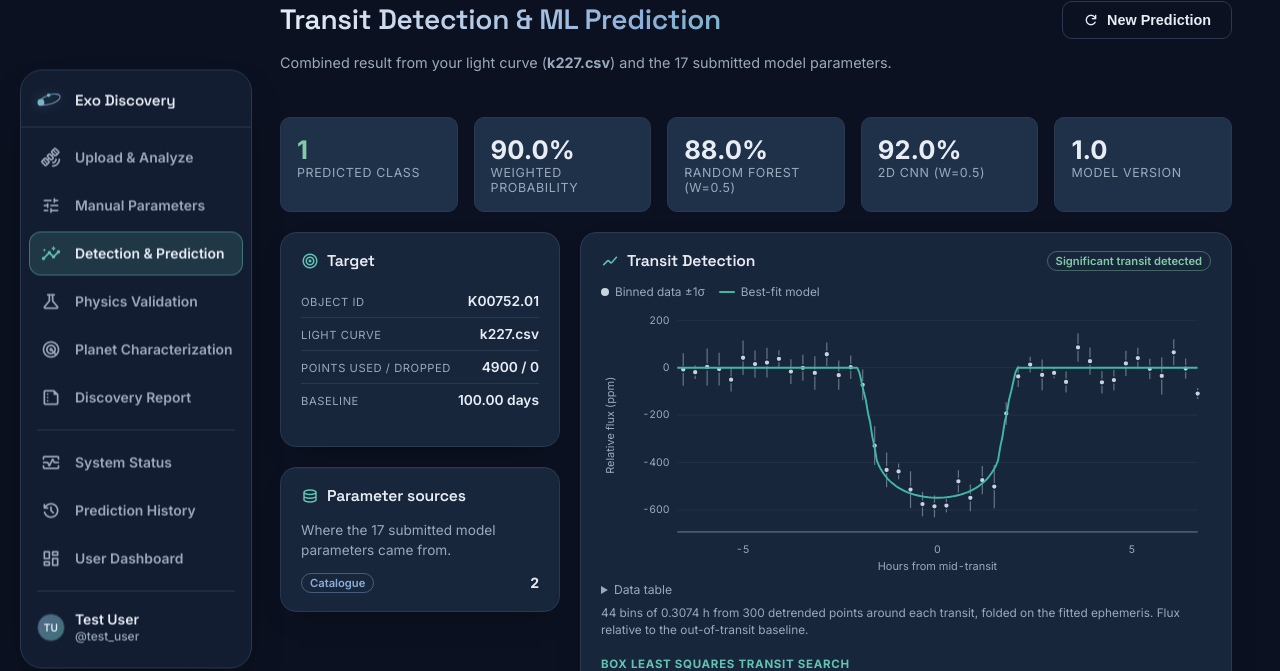
Test: Planet characterization dashboard › dashboard has a section sidebar, a summary strip and backend-computed values
Click the link "Planet Characterization" at (137, 350), box [41,338,233,362]
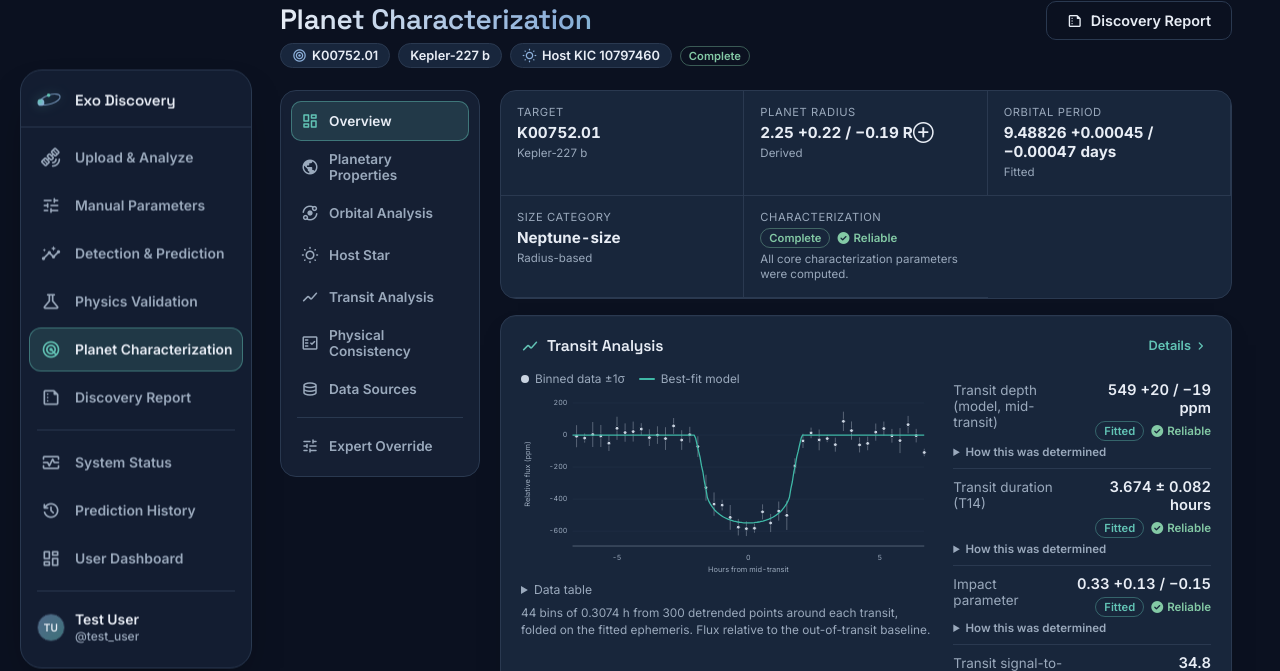
Check: the button "Overview" is shown, box [291,101,469,141]
Check: the button "Planetary Properties" is shown, box [291,143,469,191]
Check: the button "Orbital Analysis" is shown, box [291,193,469,233]
Click the button "Host Star" at (380, 255), box [291,235,469,275]
(page scrolled)
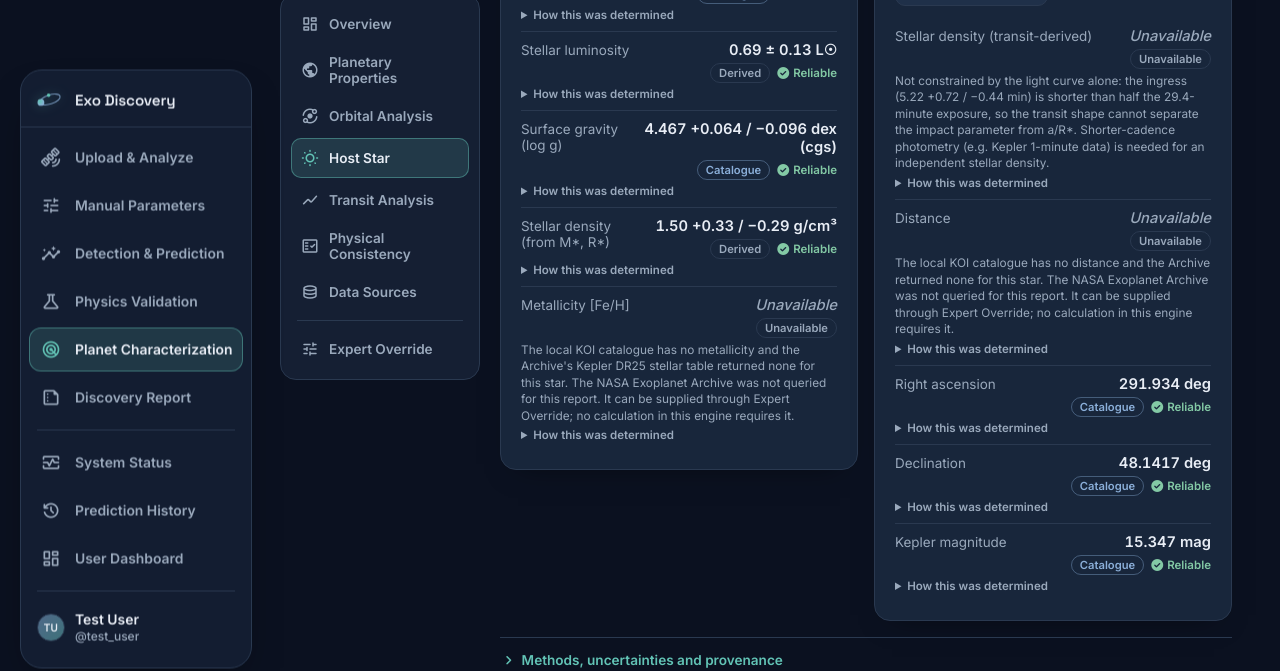
Check: the element with test id "char-param-stellar_metallicity" shows "Unavailable", box [755,296,837,314]
